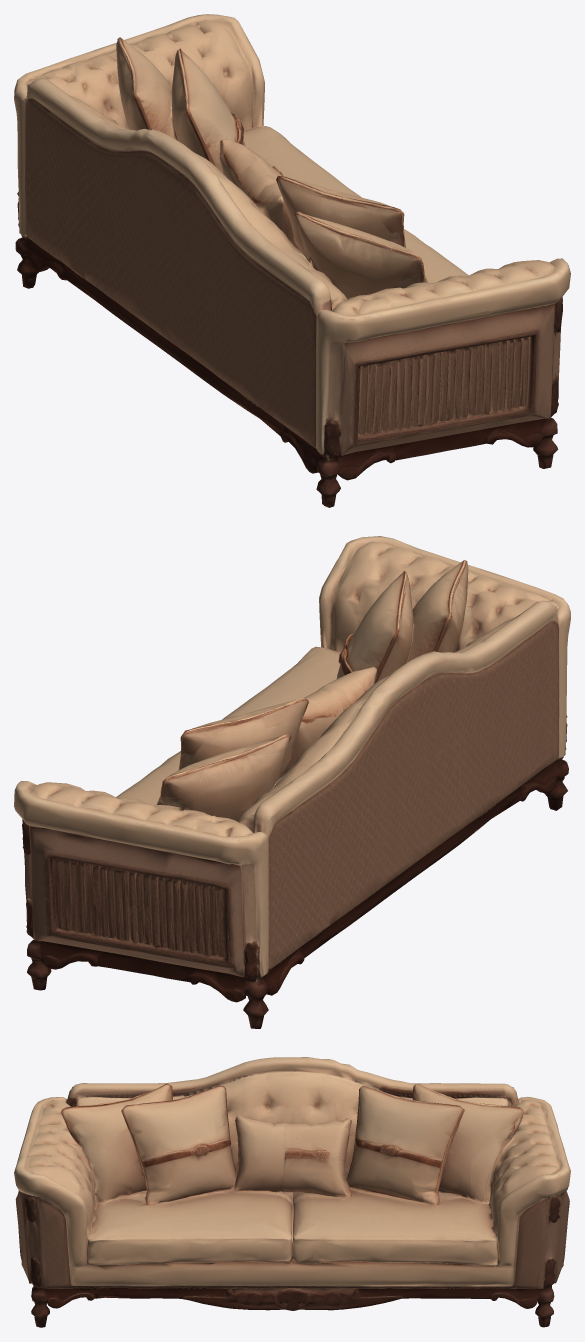
File: fahrenheit-sofa.glb
The picture shows the model from 3 angles, top to bottom: view 1: azimuth 30°, elevation 25°; view 2: azimuth 150°, elevation 25°; view 3: azimuth 270°, elevation 25°; orthographic projection. The views are drawn at different scales.
Size of the model in its own units: 0.756 by 0.7598 by 2.
1 material, 1 textured.
